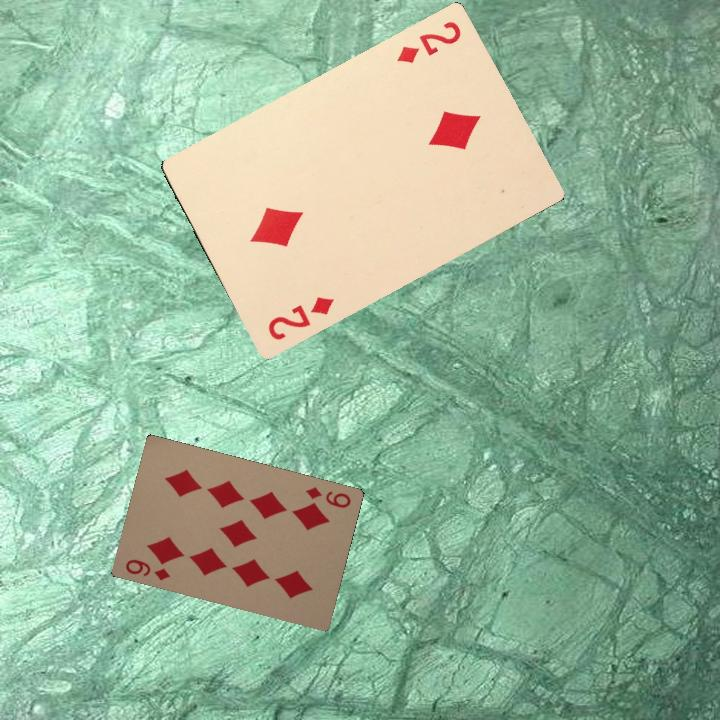2d: (263, 292, 336, 343), (393, 17, 464, 66)
9d: (121, 555, 173, 583), (302, 483, 353, 511)
